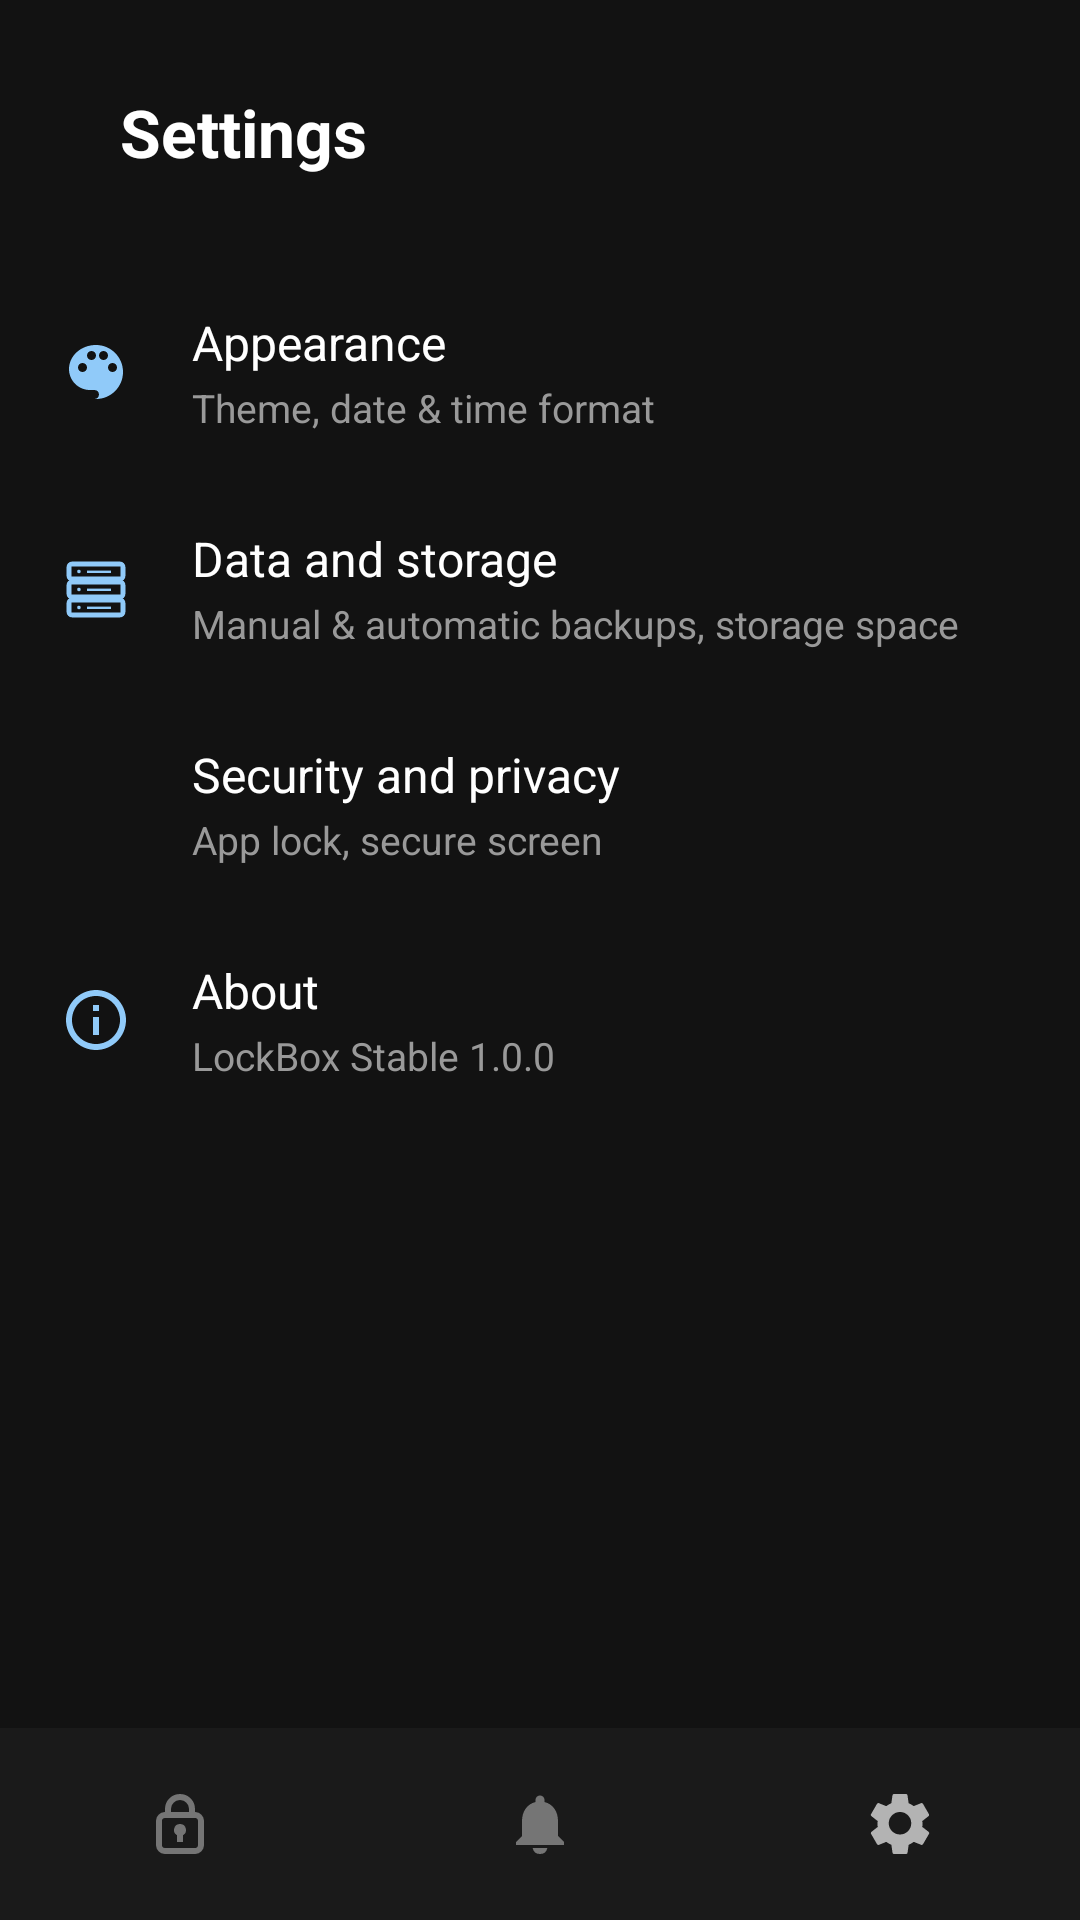

Where to tap for icons on this 1080*1920 app screen, as [x,y]:
Credentials: [180,1824]
Notifications: [540,1824]
Settings: [900,1824]
